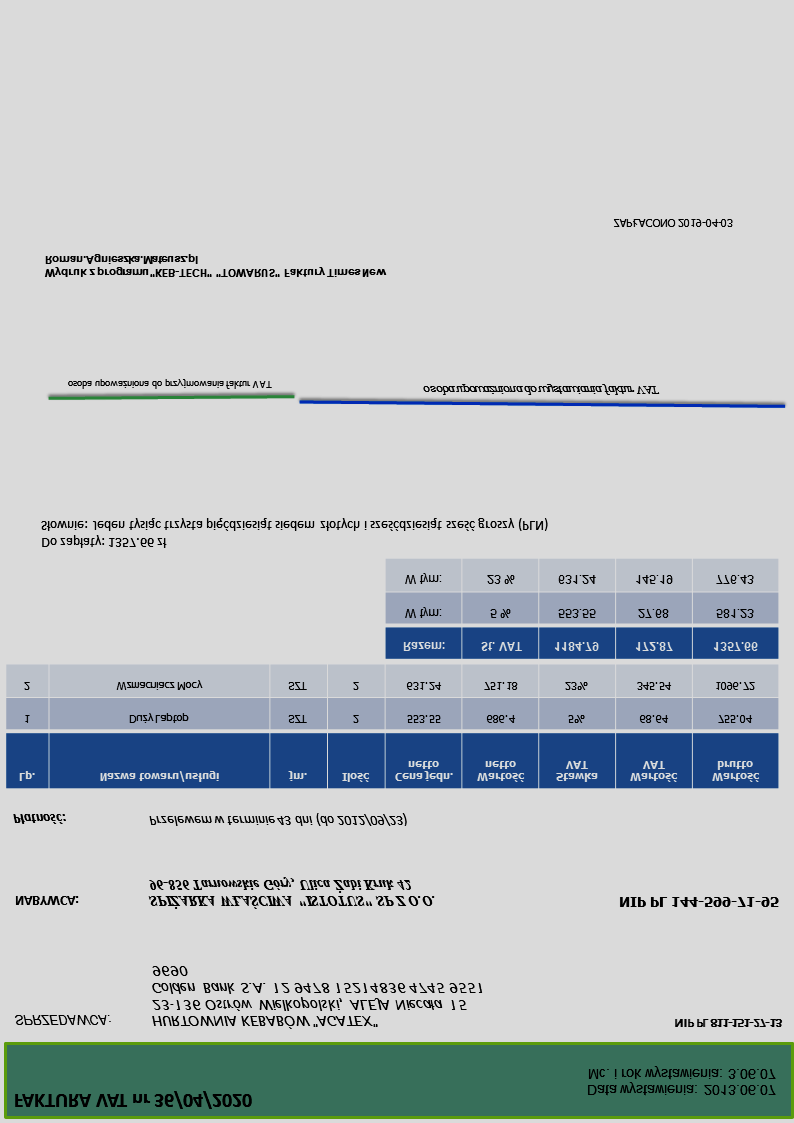Table: (4, 664, 780, 791), (384, 558, 779, 659)
TextBox: (148, 960, 485, 1031), (38, 512, 550, 551), (146, 876, 437, 911), (43, 252, 389, 281), (583, 1063, 779, 1099), (11, 1089, 254, 1112), (145, 812, 408, 830), (420, 381, 661, 399), (66, 378, 274, 391), (616, 894, 779, 910), (610, 215, 735, 232), (12, 1012, 111, 1032), (671, 1016, 784, 1031), (12, 893, 82, 909), (10, 810, 68, 828)
